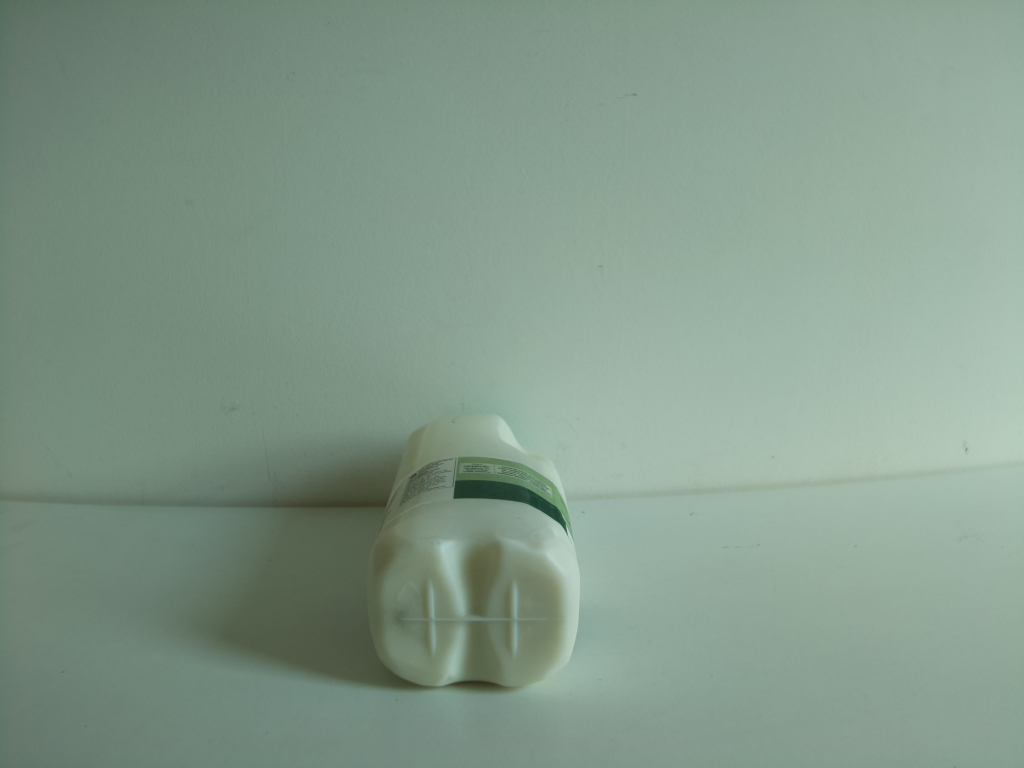milk: (366, 401, 587, 701)
